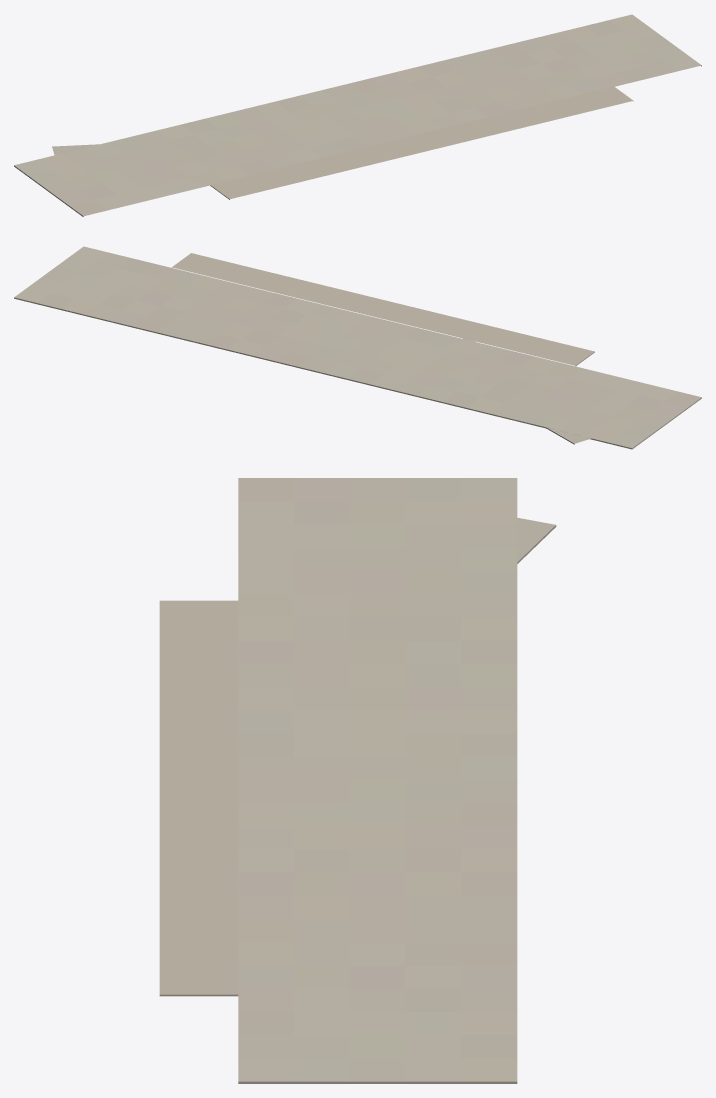
The model's file is SM_BM_BHip_SalonGrounds.glb.
The picture shows the model from 3 angles, top to bottom: view 1: azimuth 30°, elevation 25°; view 2: azimuth 150°, elevation 25°; view 3: azimuth 270°, elevation 25°; orthographic projection. The views are drawn at different scales.
Parts seen in each view (by area): view 1: SM_BM_BHip_SalonGrounds; view 2: SM_BM_BHip_SalonGrounds; view 3: SM_BM_BHip_SalonGrounds.
Part boxes in pixels (box(x1,y1,x2,y2)): SM_BM_BHip_SalonGrounds: box(14, 14, 701, 216); SM_BM_BHip_SalonGrounds: box(14, 246, 701, 449); SM_BM_BHip_SalonGrounds: box(159, 478, 556, 1083).
Bounding box in the file's own units: 64 × 0.17 × 17.77.
